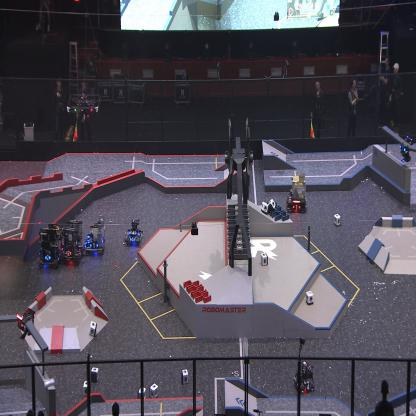car: (60, 215, 85, 266), (38, 222, 61, 269), (83, 214, 107, 255), (286, 172, 307, 214), (292, 361, 316, 394), (124, 217, 142, 246)
